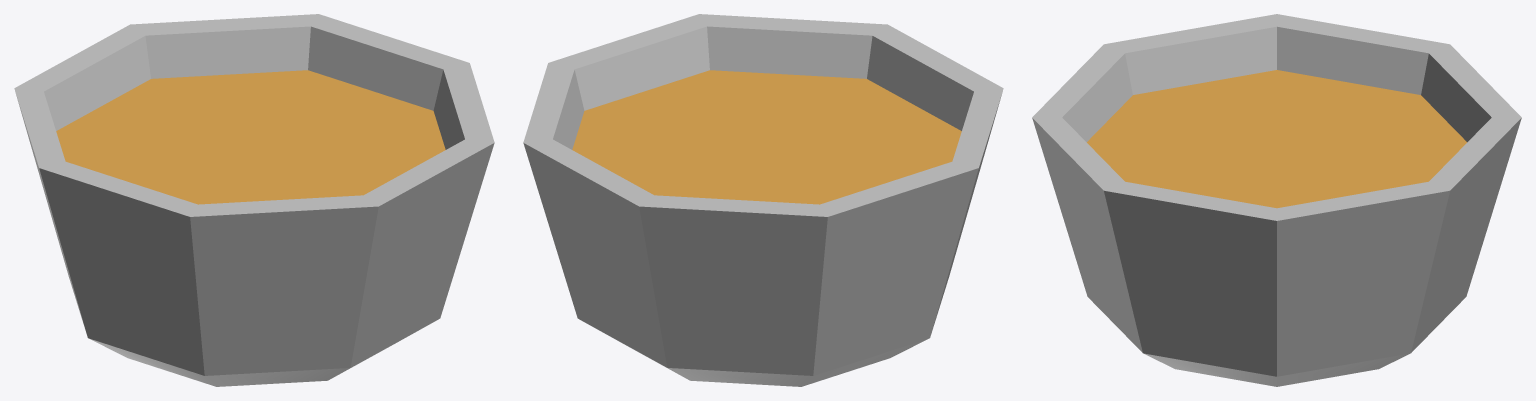
File: BowlFull.fbx
3 views of the same model, side by side, from view 1: azimuth 30°, elevation 25°; view 2: azimuth 150°, elevation 25°; view 3: azimuth 270°, elevation 25° (orthographic).
Visible parts, largest first — view 1: BowlFull; view 2: BowlFull; view 3: BowlFull.
Boxes of the visible parts, bbox=[...] form: BowlFull: bbox=[14, 14, 494, 386]; BowlFull: bbox=[523, 14, 1003, 386]; BowlFull: bbox=[1032, 14, 1521, 386].
Bounding box in the file's own units: 21.14 × 9.93 × 21.14.
